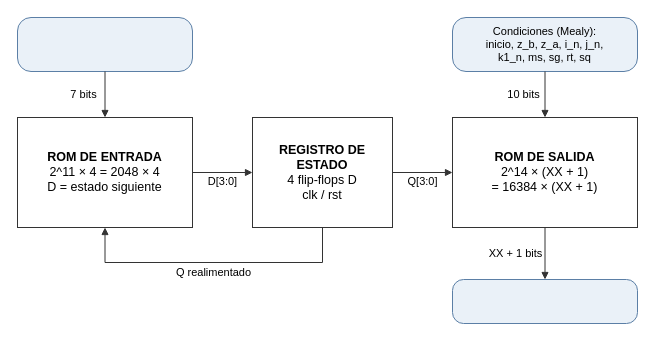
This 655x341 diagram has some shape labels left out. The shapes that lost their labels are listed below. From the top down, each one's centre as x and y in pixels, then its label:
(x=104, y=44): Condiciones: inicio, z_b, z_a, i_n, j_n, k1_n, rt
(x=545, y=301): Palabra de control (XX bits) FINAL (1 bit)
